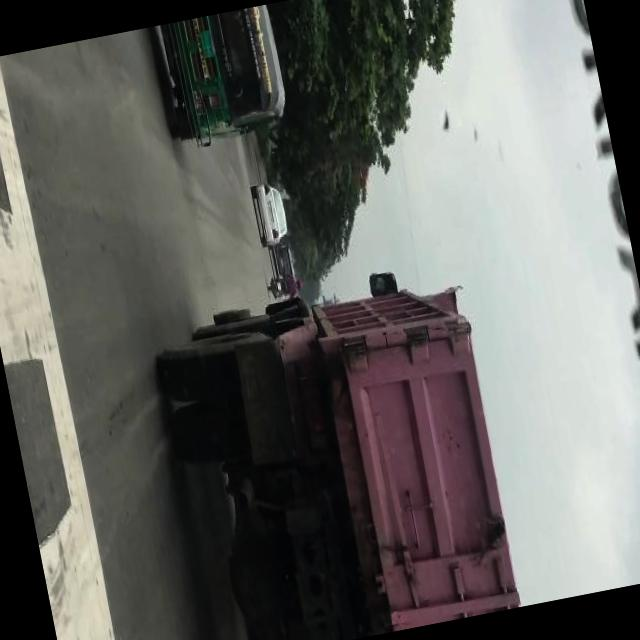car: (249, 179, 292, 252), (270, 244, 296, 282)
motorcycle: (147, 5, 295, 156), (266, 274, 306, 304)
truck: (142, 256, 527, 640)
